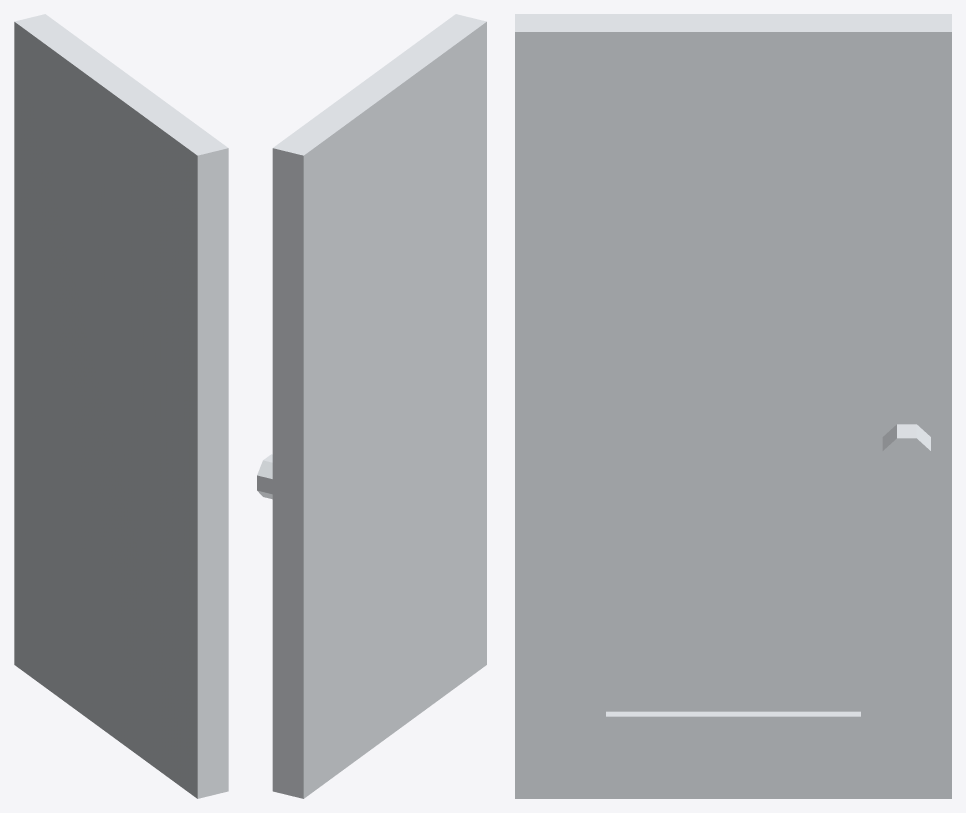
The model's file is fgr_fur_door.fbx.
The picture shows the model from 3 angles, left to right: view 1: azimuth 30°, elevation 25°; view 2: azimuth 150°, elevation 25°; view 3: azimuth 270°, elevation 25°; orthographic projection. The views are drawn at different scales.
Visible parts, largest first — view 1: fgr_fur_door; view 2: fgr_fur_door; view 3: fgr_fur_door.
Boxes of the visible parts, x1,y1,x2,y2 form: fgr_fur_door: (14,14,228,798); fgr_fur_door: (257,14,486,798); fgr_fur_door: (515,14,951,798).
Bounding box in the file's own units: 198 × 2197 × 1134.
Materials: 1 (1 with a texture image).
